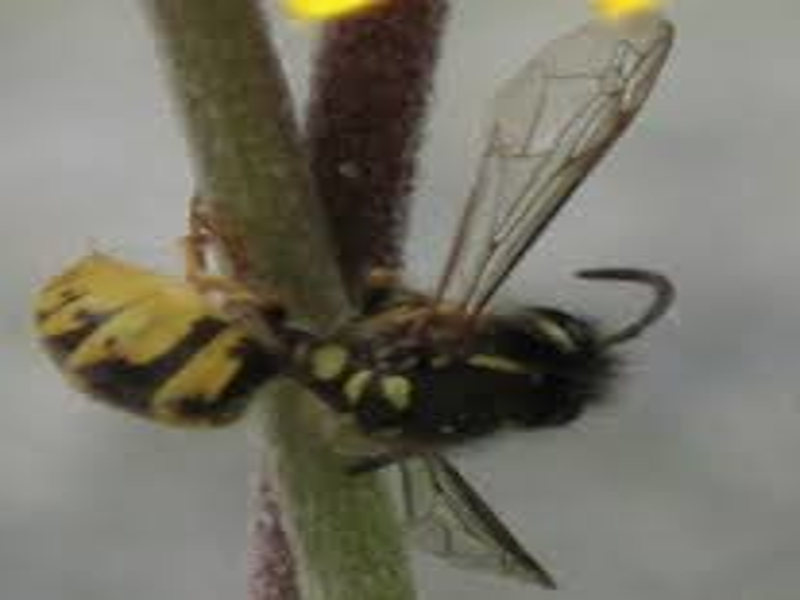chax: (15, 77, 674, 500)
